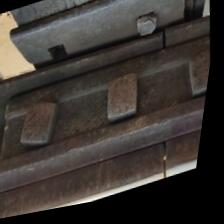person: (139, 133, 202, 194), (148, 25, 184, 63)
